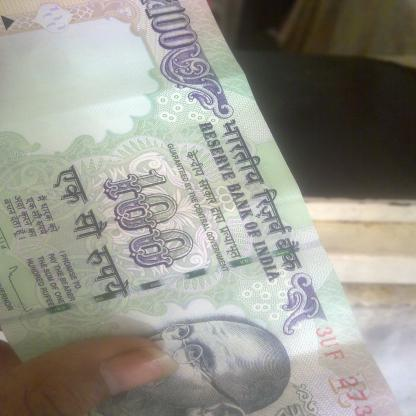Old100Front: (0, 0, 408, 415)
